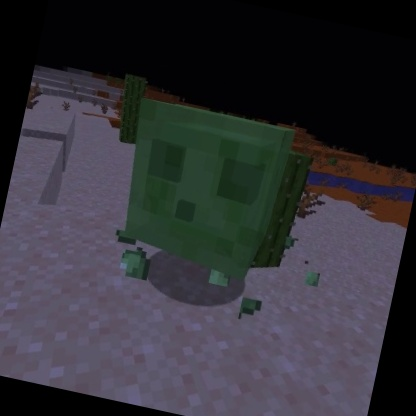slime: (105, 92, 300, 289)
